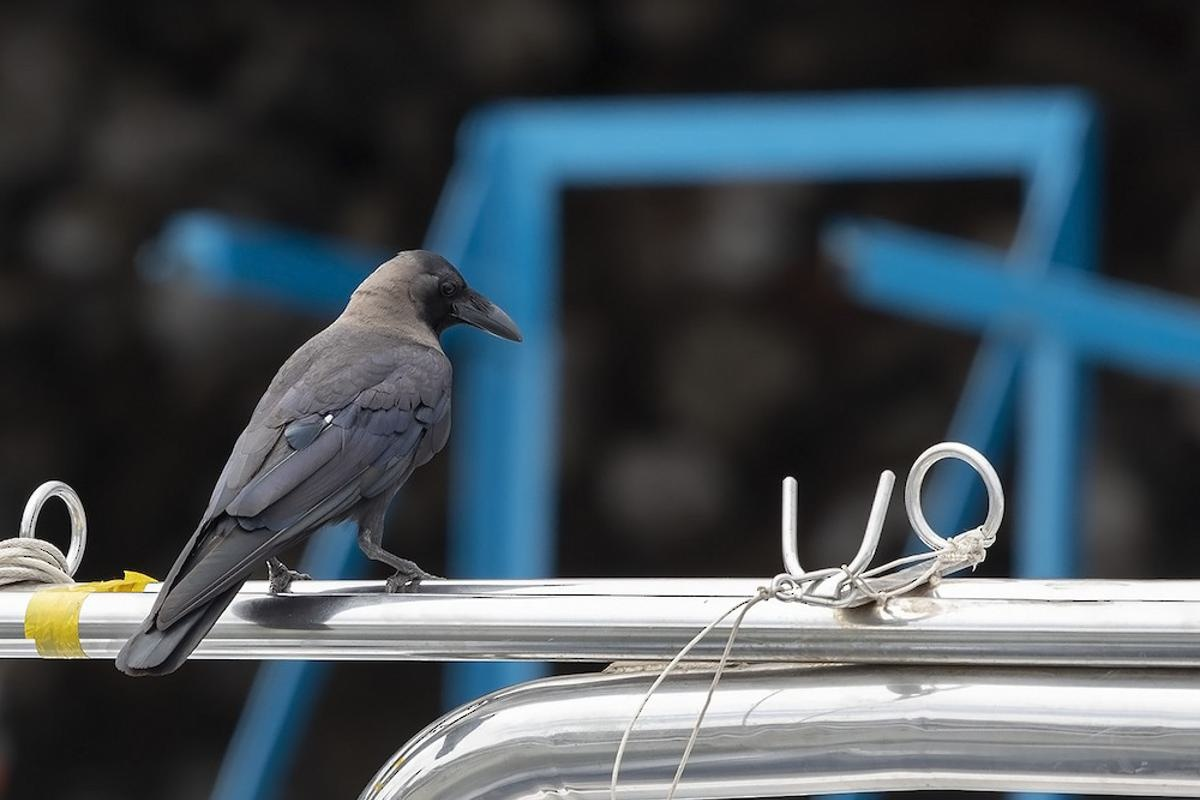crow: (116, 229, 530, 700)
